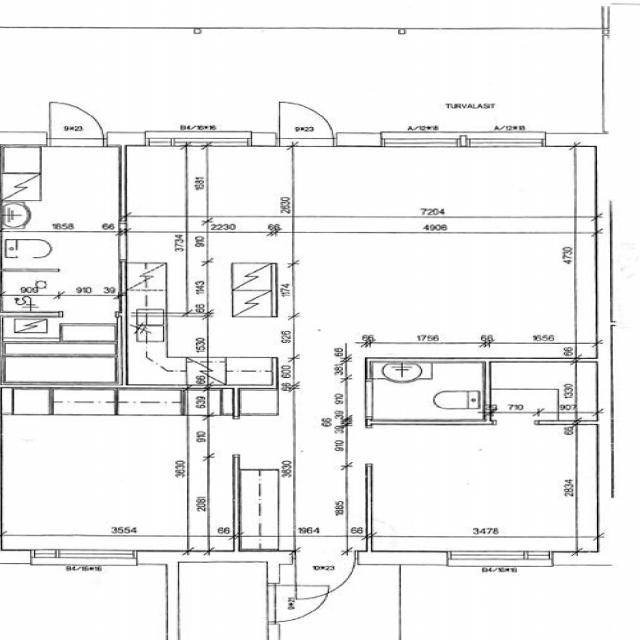door: (295, 550, 355, 600), (280, 102, 334, 146), (50, 102, 104, 146), (268, 585, 328, 621)
